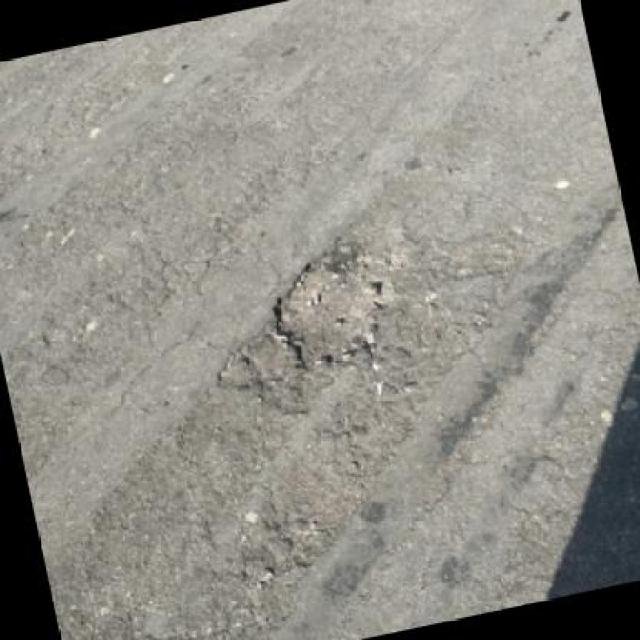pothole1: (252, 229, 419, 383)
